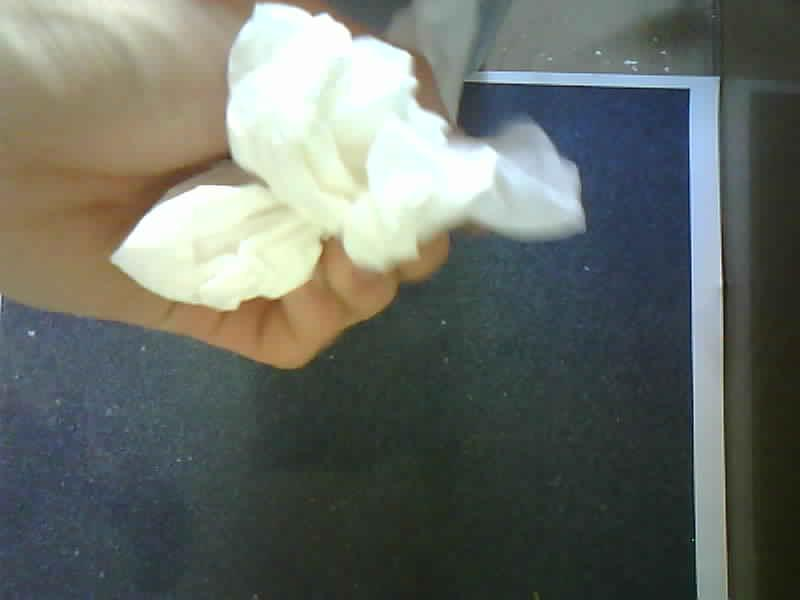paper: (112, 5, 584, 311)
